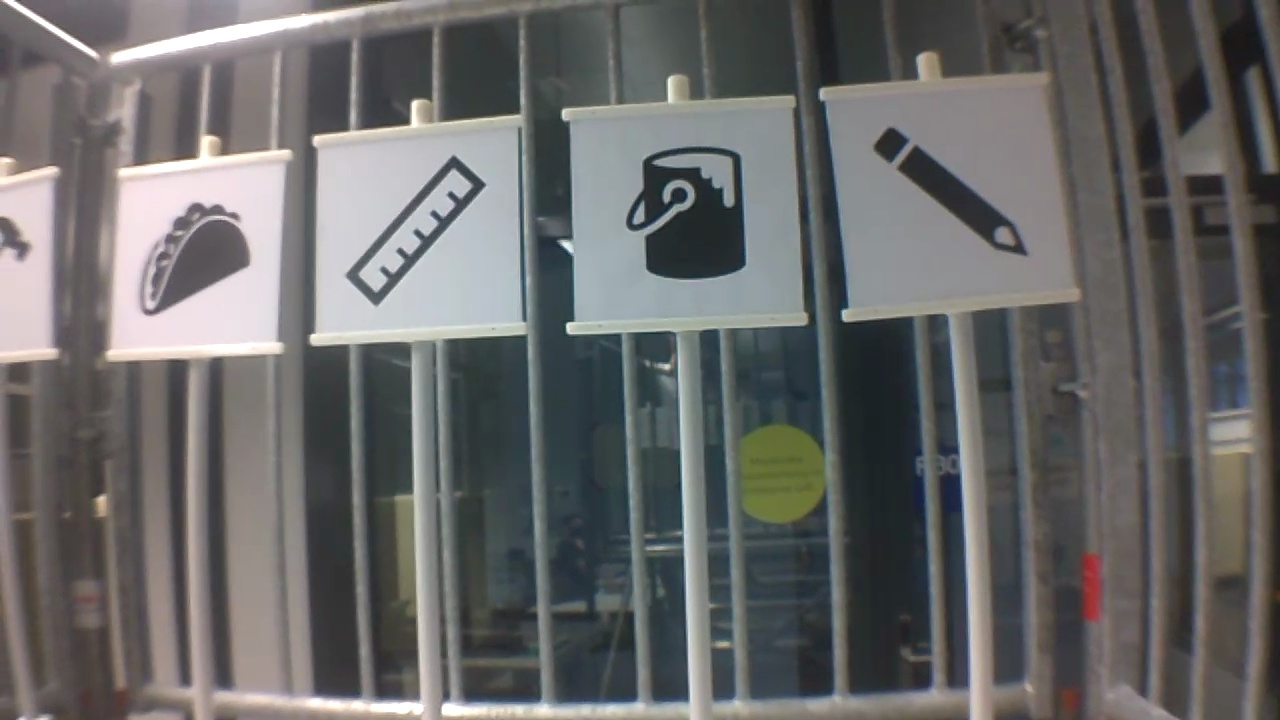bucket: (622, 143, 750, 284)
pencil: (865, 123, 1035, 263)
ruler: (340, 151, 491, 313)
taco: (134, 197, 256, 319)
